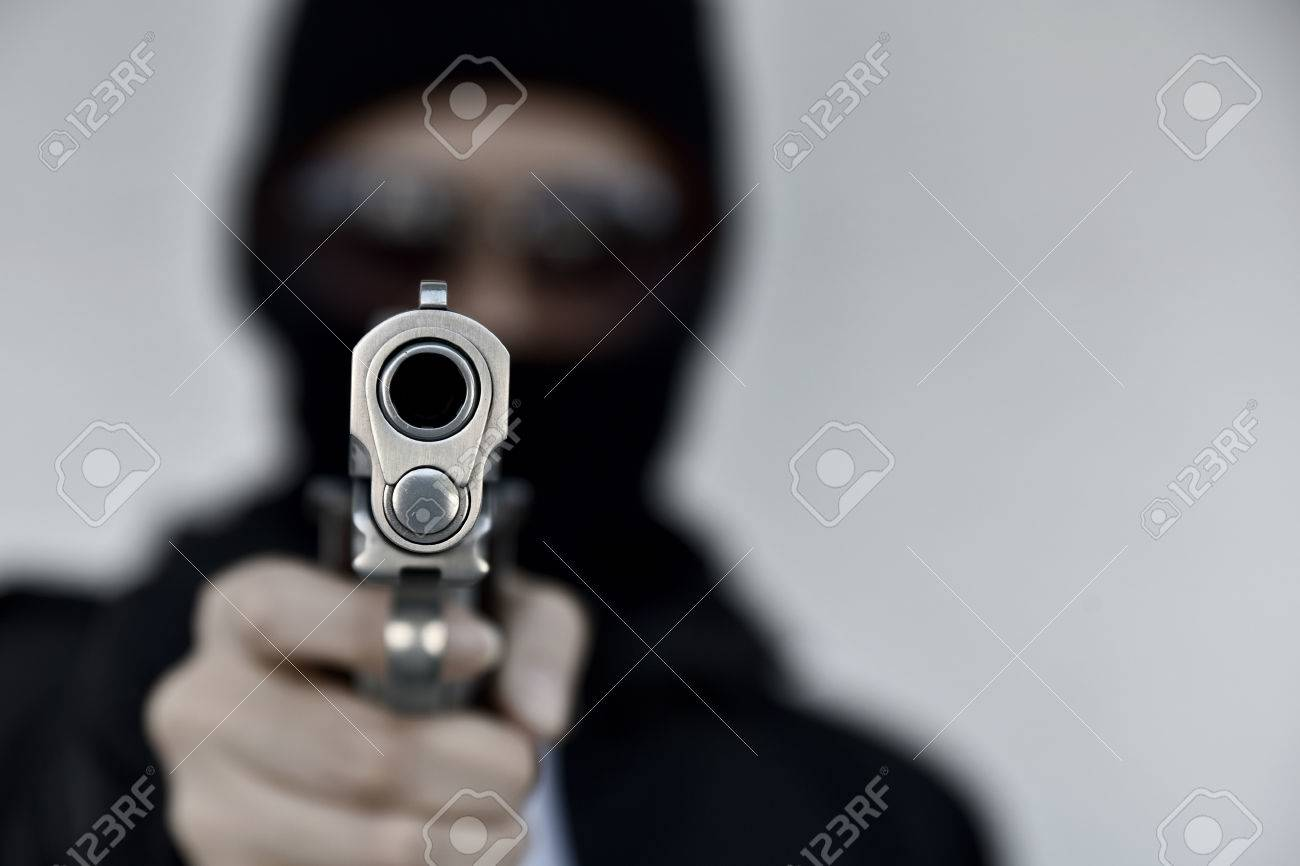pistol: (52, 257, 721, 866)
